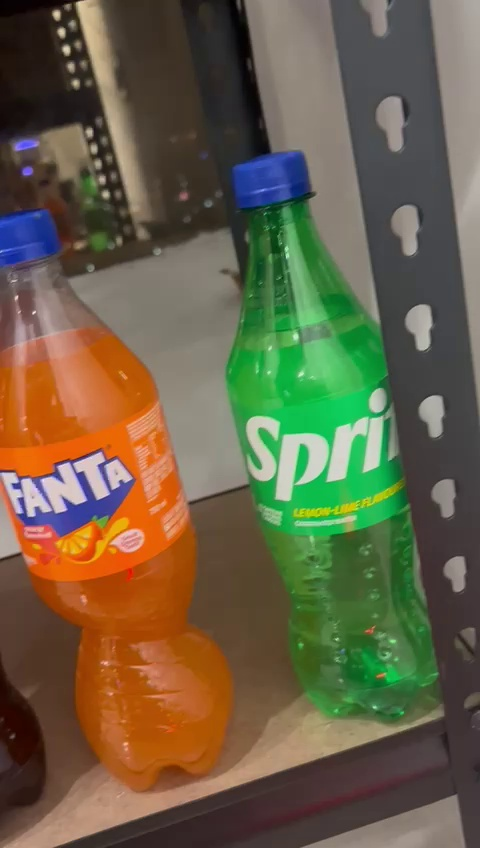Sprit: (199, 128, 451, 716)
